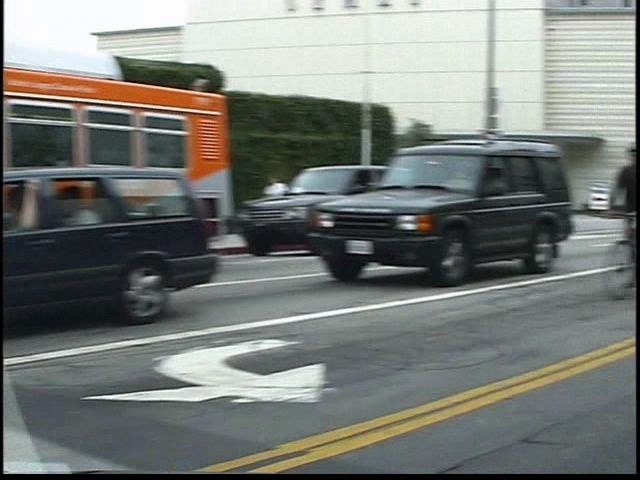person: (282, 174, 311, 243)
